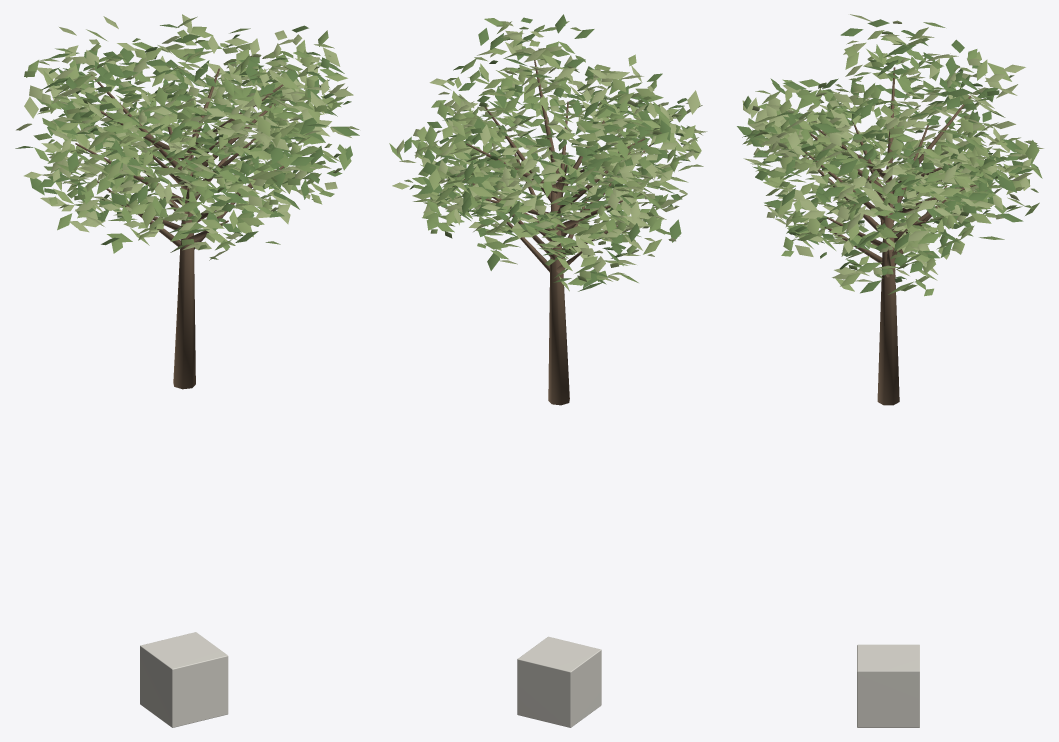
The model's file is moradas-detail-kit.glb.
3 renders of one model, left to right at view 1: azimuth 30°, elevation 25°; view 2: azimuth 150°, elevation 25°; view 3: azimuth 270°, elevation 25°, orthographic. The views are drawn at different scales.
Parts seen in each view (by area): view 1: Leaves, ArchitecturalBlock, Branches; view 2: Leaves, ArchitecturalBlock, Branches; view 3: Leaves, ArchitecturalBlock, Branches.
Boxes of the visible parts, x1=… form: Leaves: x1=15, y1=14, x2=359, y2=260; ArchitecturalBlock: x1=140, y1=632, x2=228, y2=727; Branches: x1=75, y1=68, x2=284, y2=389; Leaves: x1=389, y1=14, x2=707, y2=291; ArchitecturalBlock: x1=517, y1=636, x2=601, y2=727; Branches: x1=463, y1=60, x2=650, y2=405; Leaves: x1=737, y1=14, x2=1043, y2=296; ArchitecturalBlock: x1=857, y1=644, x2=919, y2=727; Branches: x1=802, y1=67, x2=976, y2=405.
Size of the model in its own units: 4.96 by 11.48 by 4.89.
